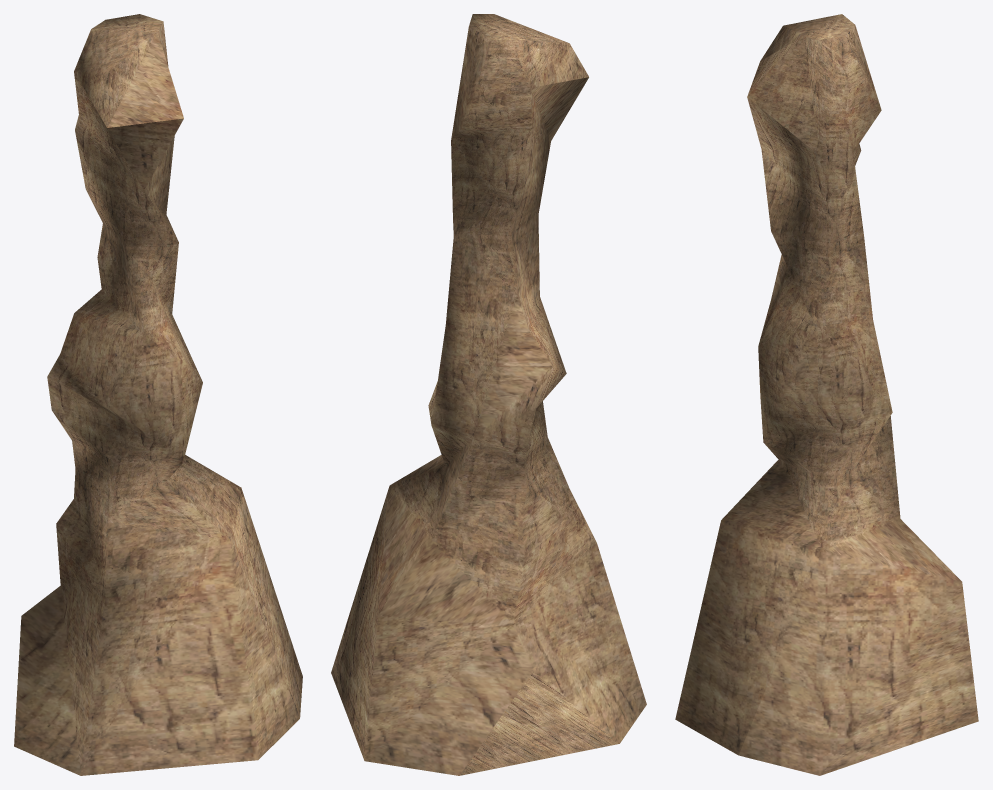
File: rock_tatt_spire_lumpy_l2.fbx
3 views of the same model, side by side, from view 1: azimuth 30°, elevation 25°; view 2: azimuth 150°, elevation 25°; view 3: azimuth 270°, elevation 25° (orthographic). The views are drawn at different scales.
Visible parts, largest first — view 1: mesh_node; view 2: mesh_node; view 3: mesh_node.
Part boxes in pixels (x1=…): mesh_node: x1=14, y1=14, x2=302, y2=775; mesh_node: x1=331, y1=14, x2=646, y2=775; mesh_node: x1=675, y1=14, x2=978, y2=775.
Size of the model in its own units: 33.58 by 76.87 by 31.55.
1 material, 1 textured.
